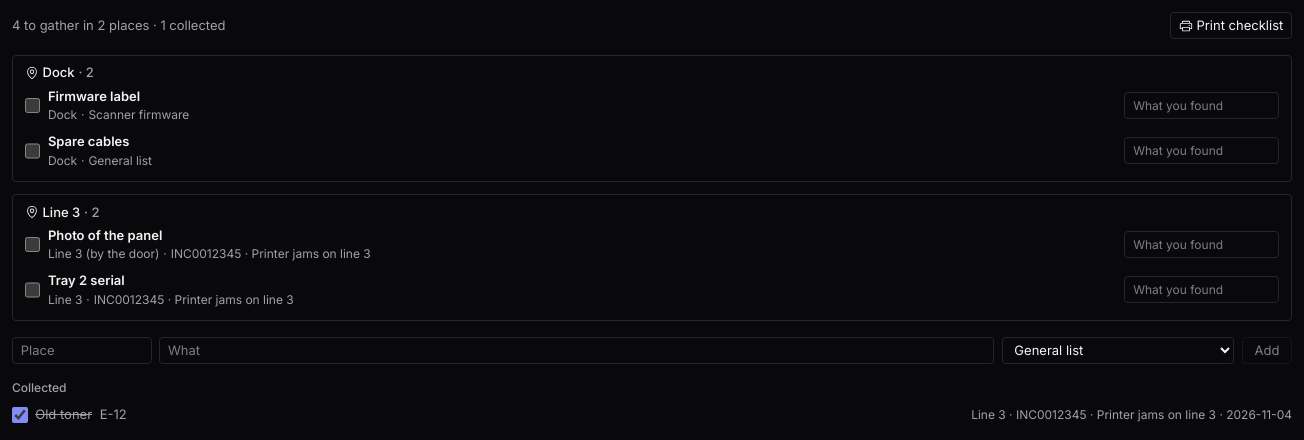
FloorView › test a 409 brings the row back with a toast
Later steps or results of the test are not shown.
Click the checkbox named "Photo of the panel" at (32, 245), box [25,237,40,252]
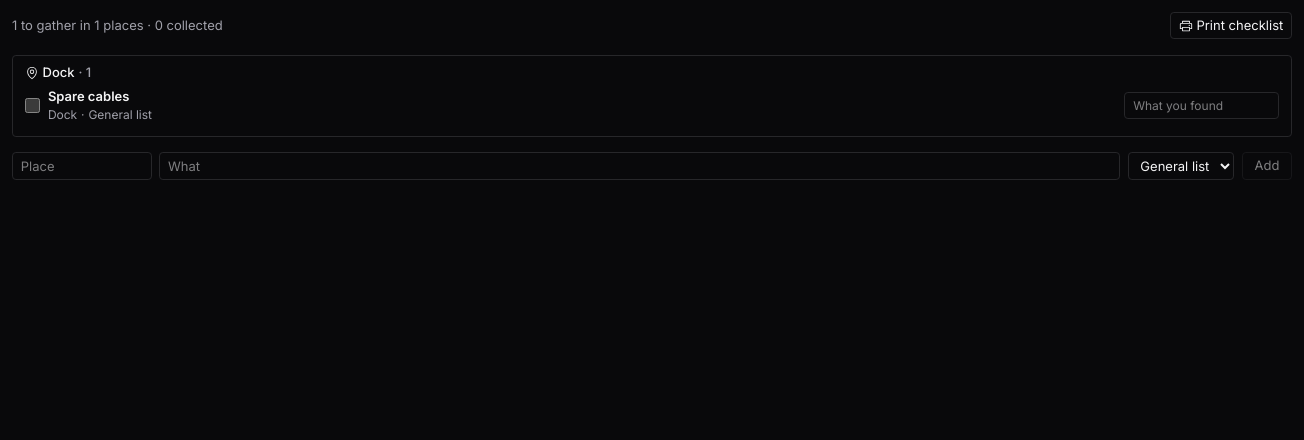
Result: the text "Photo of the panel" is gone
